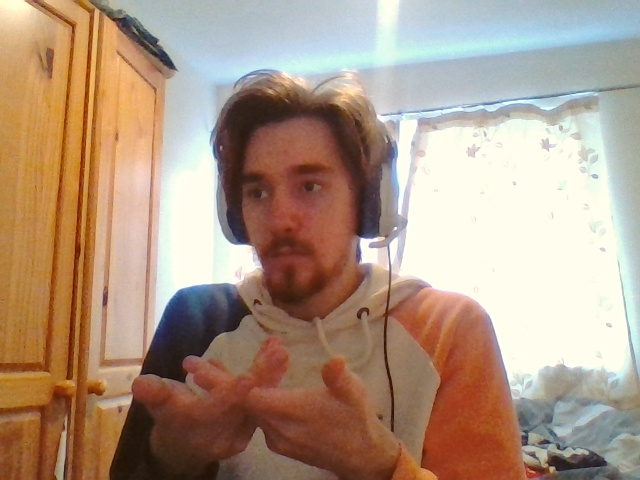how: (132, 337, 375, 461)
